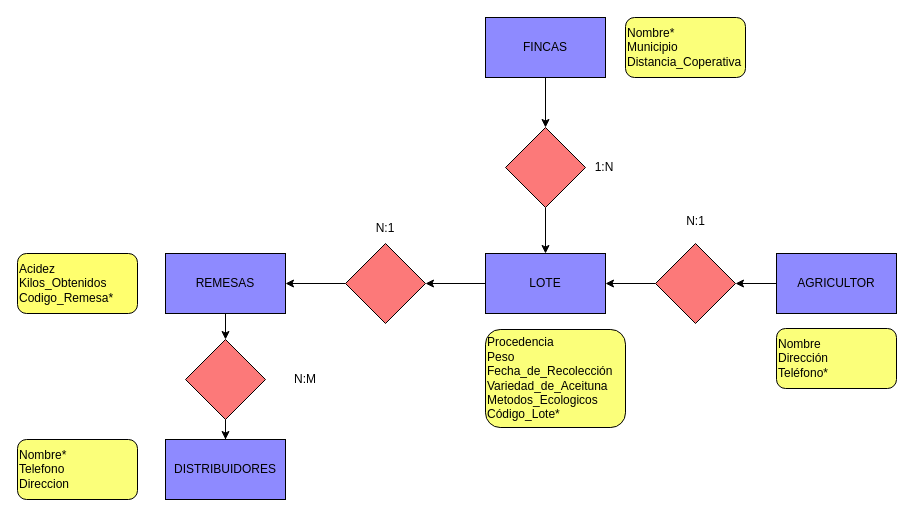
Some shapes in this 914 by 517 pixel diagram are drawn without their labels. The shapes that lost their labels are listed below. From the top down, each one's centre as x and y in pixels, then its label:
point 545,167: PROCEDE
point 385,283: Molduran
point 695,283: Recolectan
point 225,379: Venden
